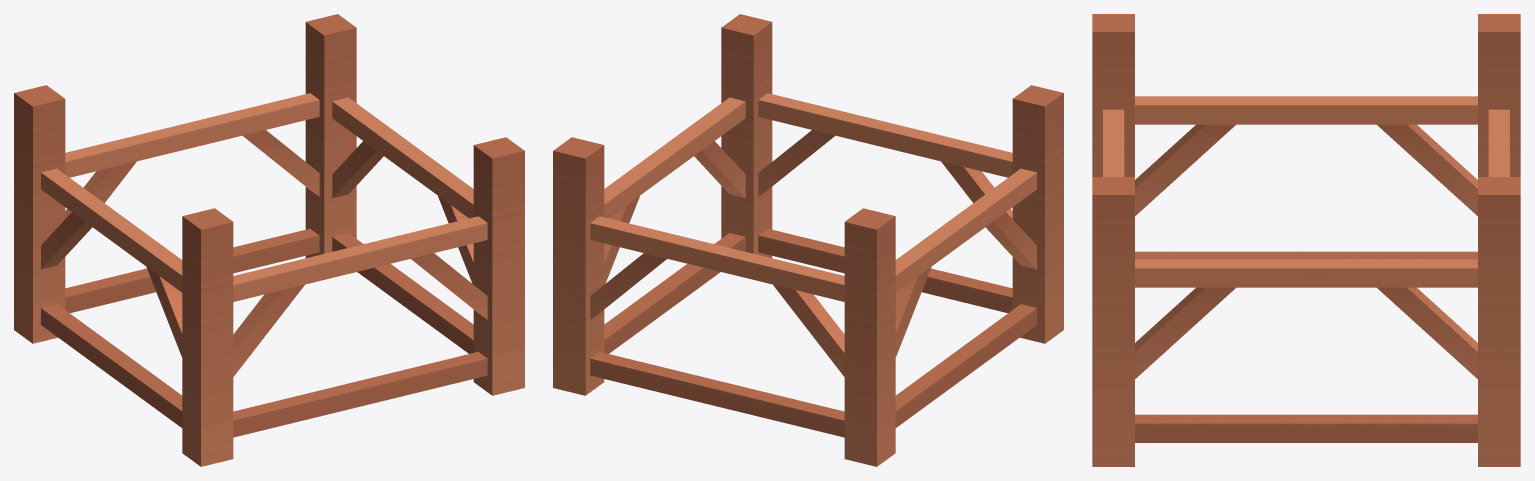
The model's file is structure-wood.glb.
The picture shows the model from 3 angles, left to right: view 1: azimuth 30°, elevation 25°; view 2: azimuth 150°, elevation 25°; view 3: azimuth 270°, elevation 25°; orthographic projection. The views are drawn at different scales.
Parts seen in each view (by area): view 1: structure-wood; view 2: structure-wood; view 3: structure-wood.
Part boxes in pixels (bbox=[...]): structure-wood: bbox=[14, 14, 524, 466]; structure-wood: bbox=[553, 14, 1063, 466]; structure-wood: bbox=[1092, 14, 1520, 466].
Size of the model in its own units: 3 by 2.1 by 3.
Materials: 1 (1 with a texture image).
